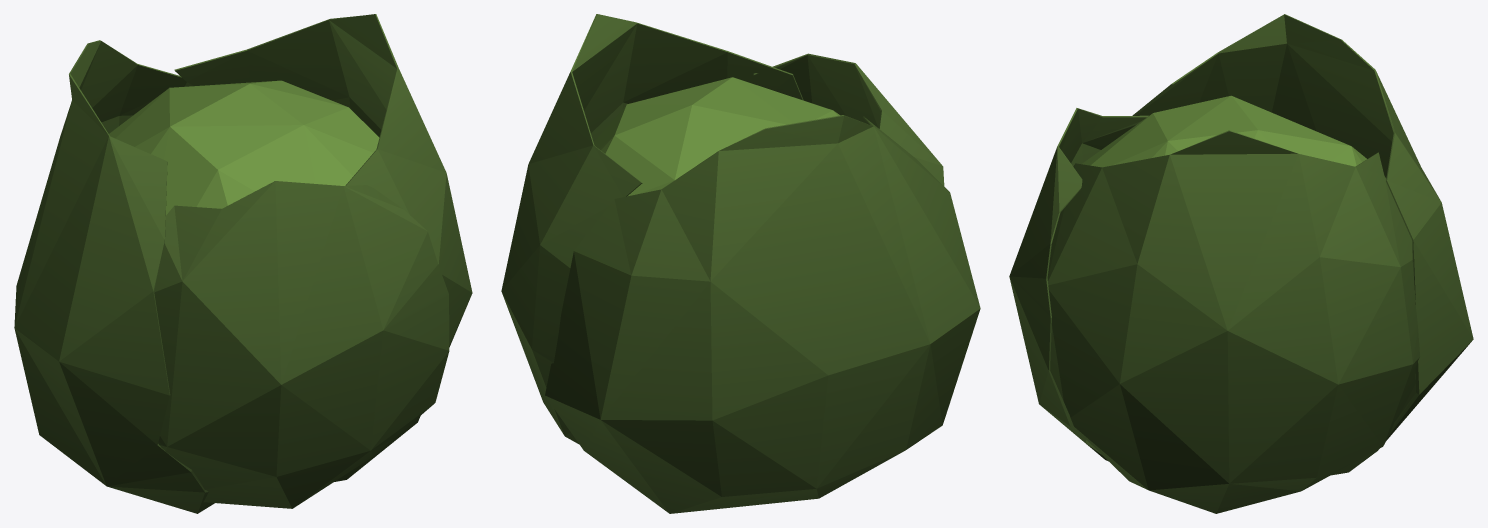
The model's file is Crop_Cabbage_01.obj.
3 views of the same model, side by side, from view 1: azimuth 30°, elevation 25°; view 2: azimuth 150°, elevation 25°; view 3: azimuth 270°, elevation 25° (orthographic). The views are drawn at different scales.
Parts seen in each view (by area): view 1: Crop_Cabbage_01; view 2: Crop_Cabbage_01; view 3: Crop_Cabbage_01.
Boxes of the visible parts, x1,y1,x2,y2 form: Crop_Cabbage_01: (14,14,472,513); Crop_Cabbage_01: (501,14,980,513); Crop_Cabbage_01: (1009,14,1473,513).
Size of the model in its own units: 0.3106 by 0.3184 by 0.3199.
Materials: 1 (1 with a texture image).
